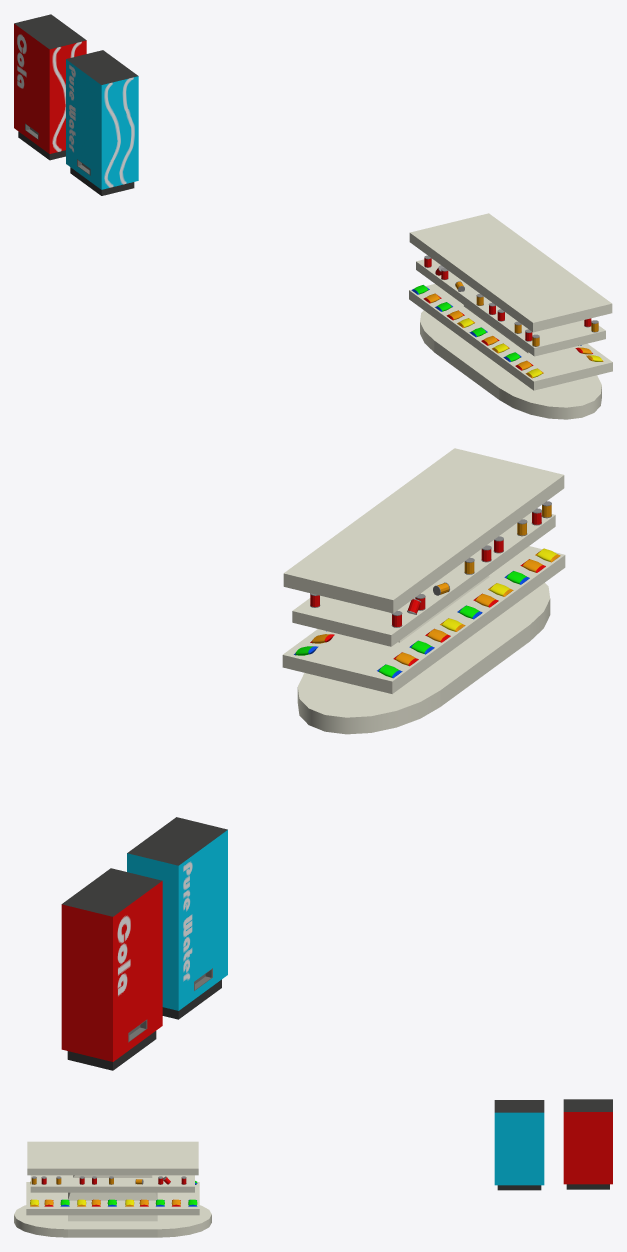
Rendered from newin.fbx.
The picture shows the model from 3 angles, top to bottom: view 1: azimuth 30°, elevation 25°; view 2: azimuth 150°, elevation 25°; view 3: azimuth 270°, elevation 25°; orthographic projection. The views are drawn at different scales.
Parts seen in each view (by area): view 1: Store, coladis, waterdis; view 2: Store, waterdis, coladis; view 3: Store, coladis, waterdis.
Boxes of the visible parts, bbox=[...] form: Store: bbox=[409, 213, 612, 419]; coladis: bbox=[66, 50, 138, 195]; waterdis: bbox=[14, 14, 86, 160]; Store: bbox=[282, 448, 565, 734]; waterdis: bbox=[61, 868, 162, 1070]; coladis: bbox=[127, 817, 227, 1019]; Store: bbox=[14, 1141, 211, 1237]; coladis: bbox=[494, 1100, 544, 1190]; waterdis: bbox=[563, 1099, 612, 1189].
Size of the model in its own units: 574 by 343 by 2377.
9 materials, 2 textured.
